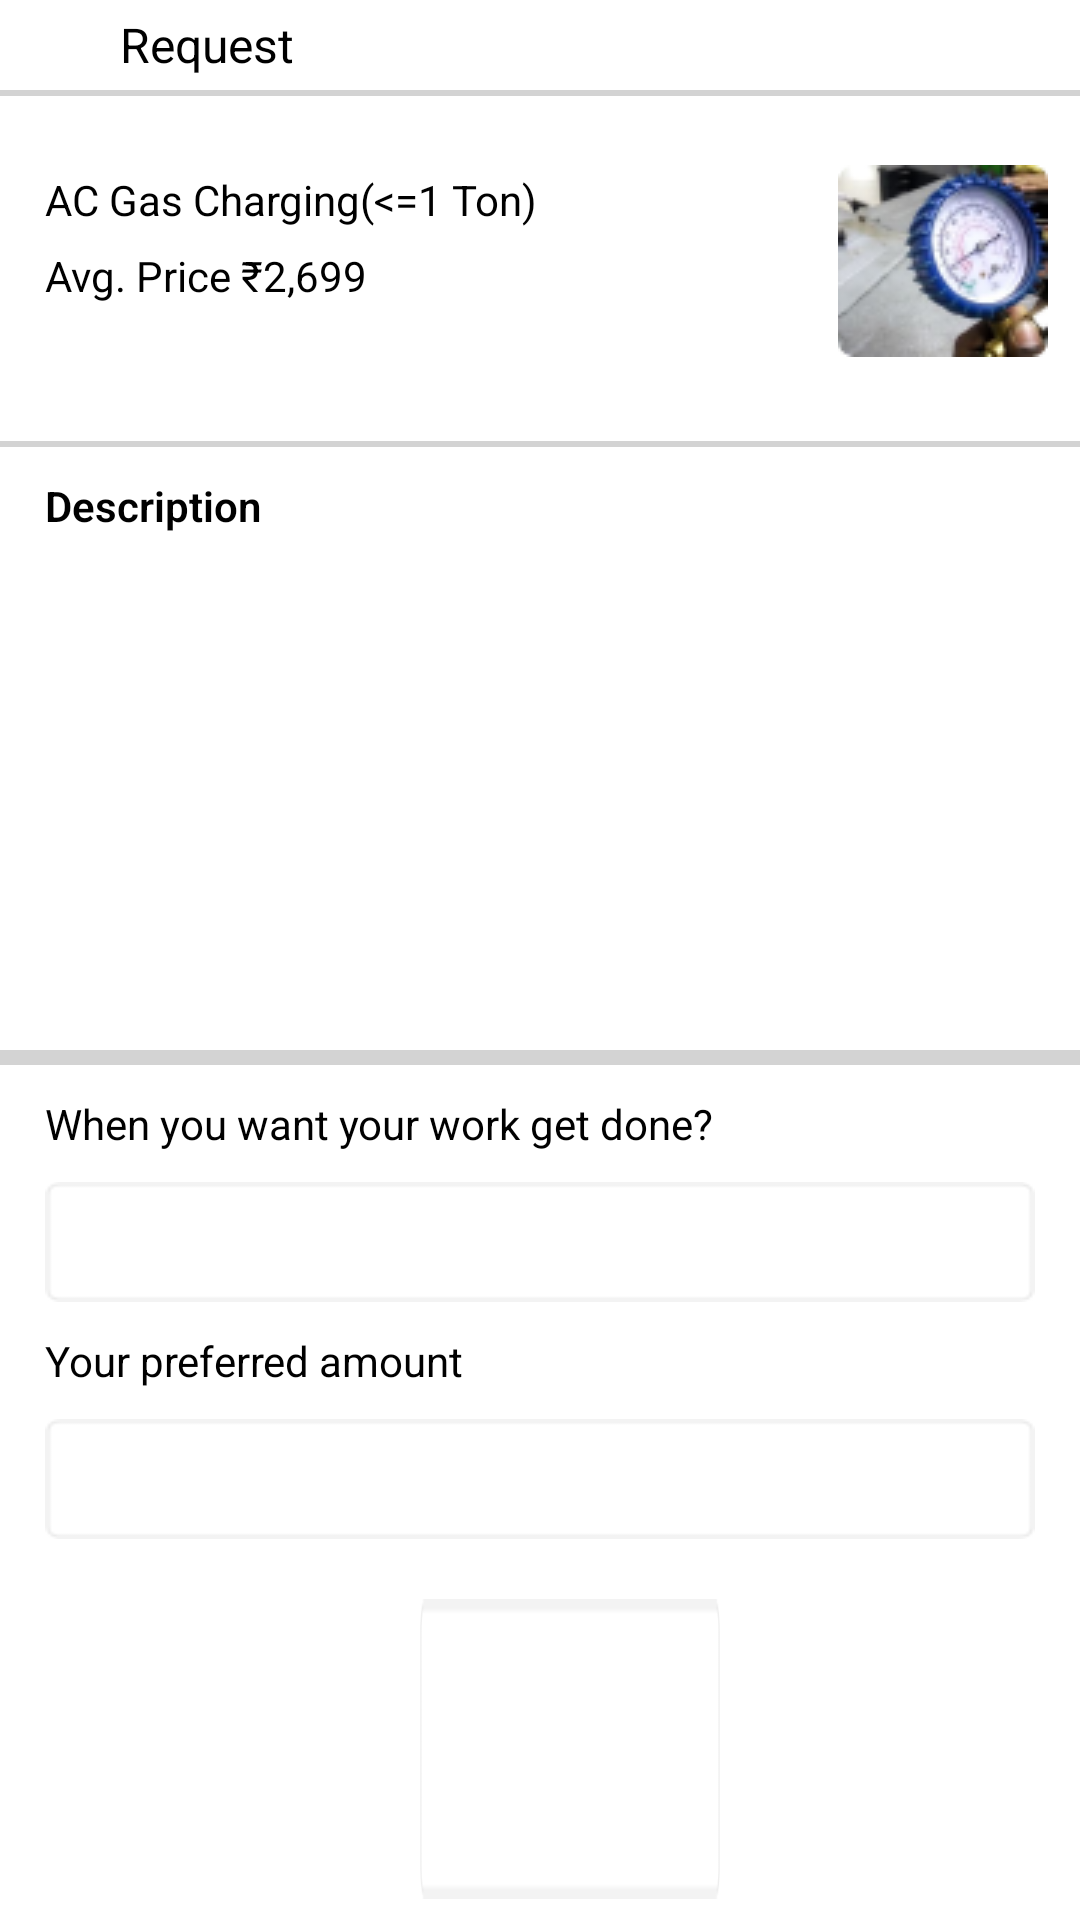

Named icons in this screenshot (1080px×1920px) and their centers, point (x, y):
acgas: point (943, 261)
